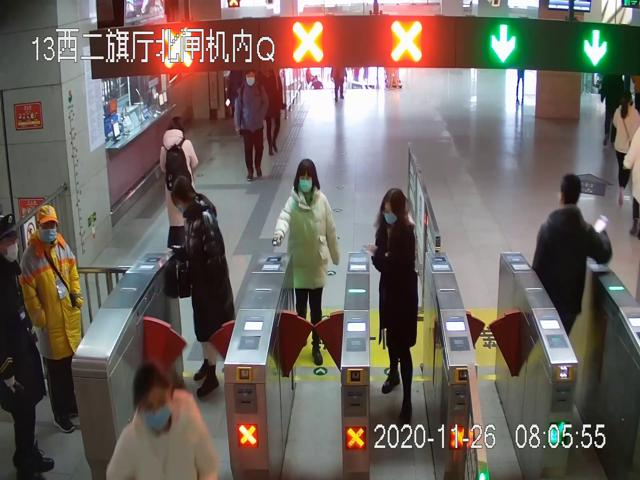person: (21, 205, 86, 433), (170, 177, 235, 396), (274, 159, 339, 367), (373, 189, 422, 427), (234, 69, 269, 181)
